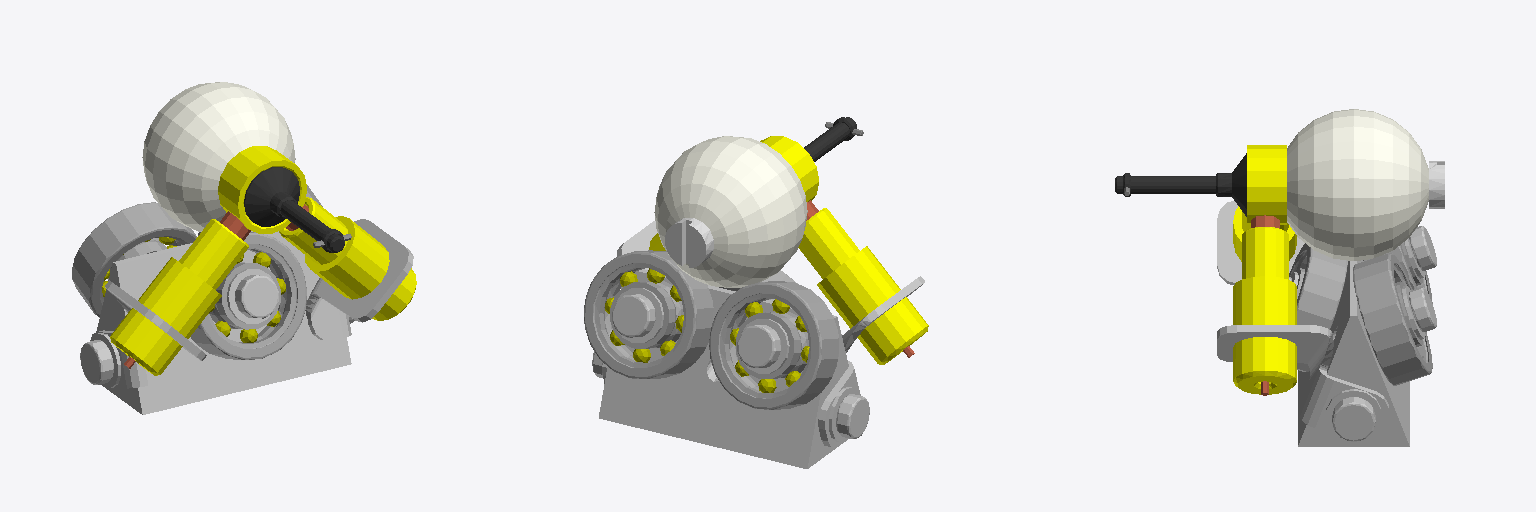
The model's file is kugelsupport_asm.obj.
3 views of the same model, side by side, from view 1: azimuth 30°, elevation 25°; view 2: azimuth 150°, elevation 25°; view 3: azimuth 270°, elevation 25° (orthographic).
Parts seen in each view (by area): view 1: 5, 1, 82, 73, 40, 20, 79, 9, 7, 80, 31, 19 (+2 smaller); view 2: 5, 1, 82, 40, 60, 80, 3, 59, 39, 51, 71, 7 (+5 smaller); view 3: 5, 73, 1, 60, 79, 20, 7, 9, 80, 91, 71, 51 (+3 smaller).
Boxes of the visible parts, box(x1,y1,x2,y2) form: 5: box(142, 82, 295, 231); 1: box(96, 231, 351, 414); 82: box(110, 219, 248, 375); 73: box(279, 197, 416, 320); 40: box(72, 202, 196, 317); 20: box(191, 232, 306, 359); 79: box(305, 219, 413, 340); 9: box(244, 167, 344, 252); 7: box(218, 146, 306, 233); 80: box(90, 280, 206, 388); 31: box(235, 275, 278, 318); 19: box(209, 262, 280, 329); 5: box(654, 136, 807, 287); 1: box(599, 269, 848, 468); 82: box(798, 208, 928, 364); 40: box(709, 281, 838, 409); 60: box(584, 250, 713, 378); 80: box(818, 276, 924, 447); 3: box(665, 218, 713, 267); 59: box(610, 281, 683, 348); 39: box(736, 312, 808, 378); 51: box(737, 325, 780, 367); 71: box(612, 294, 655, 337); 7: box(760, 136, 818, 201); 5: box(1287, 109, 1428, 260); 73: box(1233, 227, 1296, 394); 1: box(1298, 260, 1409, 446); 60: box(1353, 253, 1432, 385); 79: box(1217, 325, 1388, 442); 20: box(1289, 243, 1347, 371); 7: box(1247, 145, 1286, 224); 9: box(1115, 153, 1246, 216); 80: box(1217, 201, 1304, 284); 91: box(1332, 397, 1375, 441); 71: box(1337, 287, 1436, 331); 51: box(1409, 226, 1436, 270).
Bounding box in the file's own units: 42.43 × 38.5 × 41.